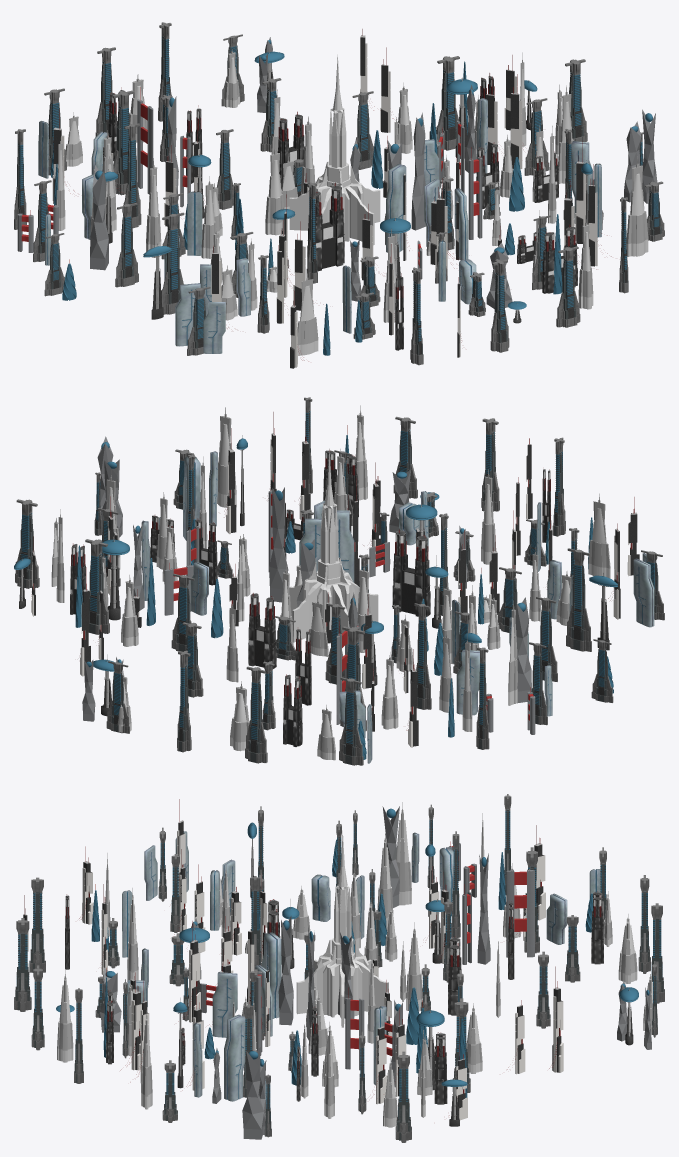
The model's file is rascacielos.fbx.
3 views of the same model, one above another, from view 1: azimuth 30°, elevation 25°; view 2: azimuth 150°, elevation 25°; view 3: azimuth 270°, elevation 25° (orthographic).
Visible parts, largest first — view 1: build12.001, build4.text.011, build11.text.007, build6.text.003, build3.text.040, build3.text.034, build3.text.012, build11.text.013, build3.text.032, build3.text.013, build6.text.010, build10.text.007 (+84 smaller); view 2: build12.001, build4.text.011, build4.text.010, build3.text.040, build11.text.013, build3.text.005, build3.text.008, build3.text.034, build11.text.007, build6.text.010, build3.text.046, build5.text.003 (+70 smaller); view 3: build12.001, build10.text.007, build5.text.029, build11.text.002, build5.text.027, build11.text.012, build3.text.025, build3.text.029, build5.text.023, build3.text.046, build11.text.009, build6.text.025 (+62 smaller).
Part boxes in pixels (bbox=[...]): build12.001: bbox=[289, 54, 380, 245]; build4.text.011: bbox=[307, 182, 344, 271]; build11.text.007: bbox=[90, 165, 108, 270]; build6.text.003: bbox=[626, 156, 648, 256]; build3.text.040: bbox=[161, 212, 184, 314]; build3.text.034: bbox=[436, 56, 459, 150]; build3.text.012: bbox=[112, 90, 134, 195]; build11.text.013: bbox=[411, 112, 426, 230]; build3.text.032: bbox=[556, 246, 580, 327]; build3.text.013: bbox=[115, 203, 138, 287]; build6.text.010: bbox=[297, 272, 318, 355]; build10.text.007: bbox=[137, 87, 153, 194]; build12.001: bbox=[289, 448, 378, 642]; build4.text.011: bbox=[392, 529, 430, 616]; build4.text.010: bbox=[248, 593, 276, 669]; build3.text.040: bbox=[566, 548, 591, 651]; build11.text.013: bbox=[269, 487, 288, 602]; build3.text.005: bbox=[245, 666, 267, 763]; build3.text.008: bbox=[339, 677, 363, 765]; build3.text.034: bbox=[85, 539, 109, 634]; build11.text.007: bbox=[515, 597, 531, 703]; build6.text.010: bbox=[588, 493, 610, 578]; build3.text.046: bbox=[15, 499, 39, 588]; build5.text.003: bbox=[633, 558, 654, 627]; build12.001: bbox=[296, 830, 388, 1027]; build10.text.007: bbox=[506, 869, 534, 957]; build5.text.029: bbox=[224, 1014, 245, 1101]; build11.text.002: bbox=[242, 1047, 264, 1139]; build5.text.027: bbox=[212, 972, 237, 1037]; build11.text.012: bbox=[278, 916, 293, 1025]; build3.text.025: bbox=[14, 918, 31, 1011]; build3.text.029: bbox=[29, 877, 45, 972]; build5.text.023: bbox=[262, 932, 281, 1018]; build3.text.046: bbox=[395, 1051, 411, 1142]; build11.text.009: bbox=[477, 853, 490, 964]; build6.text.025: bbox=[396, 802, 411, 905].
Bounding box in the file's own units: 4367 × 1315 × 4371.
